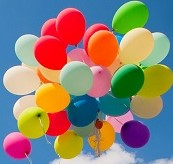Balloon: (118, 28, 154, 64), (3, 66, 42, 95), (111, 64, 144, 98), (60, 60, 92, 95), (34, 35, 66, 69), (112, 1, 148, 31), (139, 65, 173, 96), (88, 30, 118, 65), (56, 8, 85, 44), (35, 83, 70, 112), (68, 95, 99, 127), (18, 108, 49, 139), (55, 130, 84, 158), (3, 132, 32, 160), (120, 121, 150, 148), (131, 94, 163, 118)
